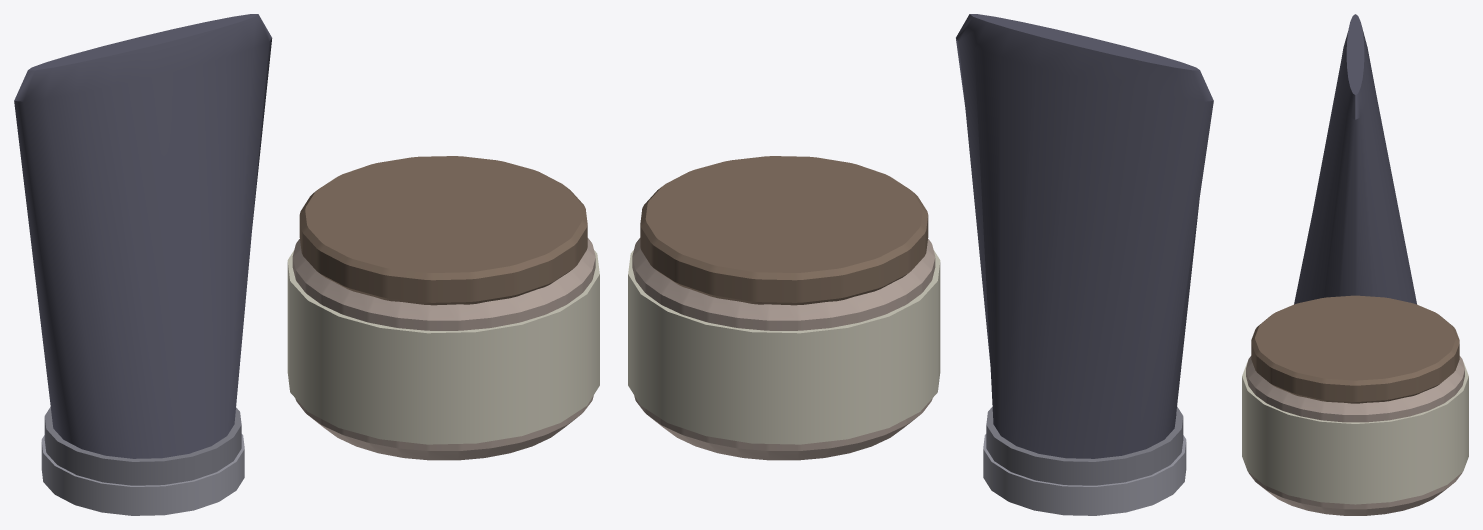
Rendered from 2 colored creams bedroom.fbx.
3 views of the same model, side by side, from view 1: azimuth 30°, elevation 25°; view 2: azimuth 150°, elevation 25°; view 3: azimuth 270°, elevation 25° (orthographic). The views are drawn at different scales.
Parts seen in each view (by area): view 1: polySurface4, polySurface5, polySurface6, polySurface1, polySurface3, polySurface2; view 2: polySurface4, polySurface5, polySurface6, polySurface1, polySurface3, polySurface2; view 3: polySurface5, polySurface4, polySurface6, polySurface1.
Boxes of the visible parts, x1,y1,x2,y2 form: polySurface4: (14, 14, 272, 458); polySurface5: (287, 250, 599, 444); polySurface6: (299, 156, 587, 305); polySurface1: (292, 238, 595, 460); polySurface3: (41, 434, 244, 515); polySurface2: (44, 407, 241, 485); polySurface4: (956, 14, 1213, 458); polySurface5: (628, 250, 940, 444); polySurface6: (640, 156, 928, 305); polySurface1: (632, 238, 935, 460); polySurface3: (983, 434, 1186, 515); polySurface2: (986, 406, 1183, 485); polySurface5: (1242, 361, 1468, 504); polySurface4: (1294, 14, 1416, 304); polySurface6: (1251, 295, 1459, 403); polySurface1: (1246, 356, 1464, 515).
Size of the model in its own units: 0.2977 by 0.2195 by 0.1431.
